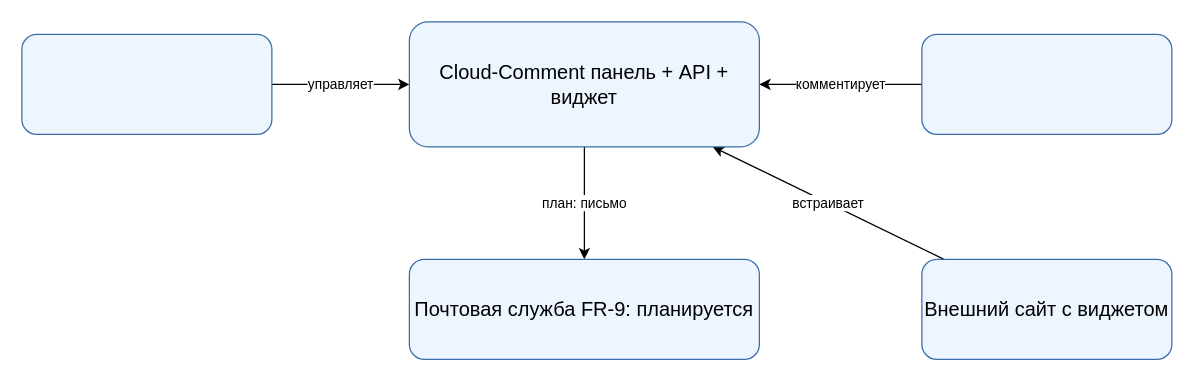
Image size: 1194x381. Some labels were removed from this diagram. The shapes that lost their labels are listed below. From the top down, each one's centre as x and y in pixels, then its label:
At pixel 146 83: "Владелец сайта".
At pixel 1046 83: "Посетитель сайта".
